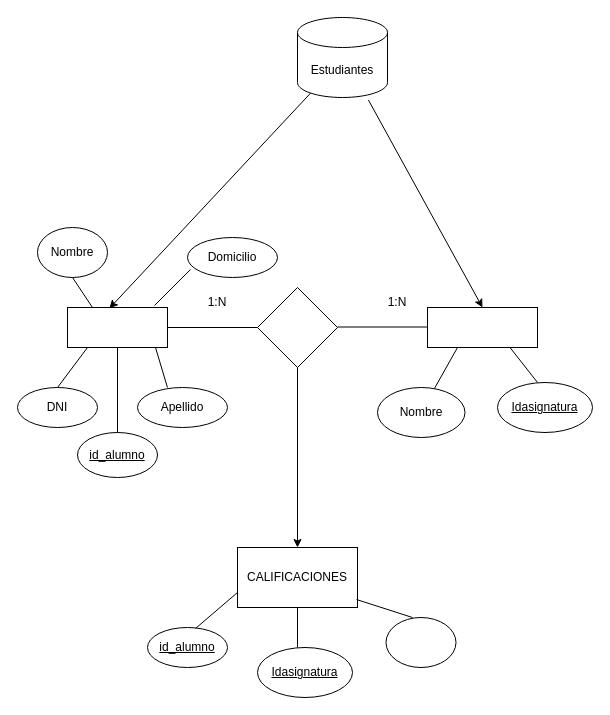
Some shapes in this 610 by 715 pixel diagram are drawn without their labels. Here are the shapes that lost their labels. From the top down, the centre of each, then its label:
[117,327]: ALUMNO
[297,327]: Obtener
[482,327]: ASIGNATURA
[420,642]: Nota
